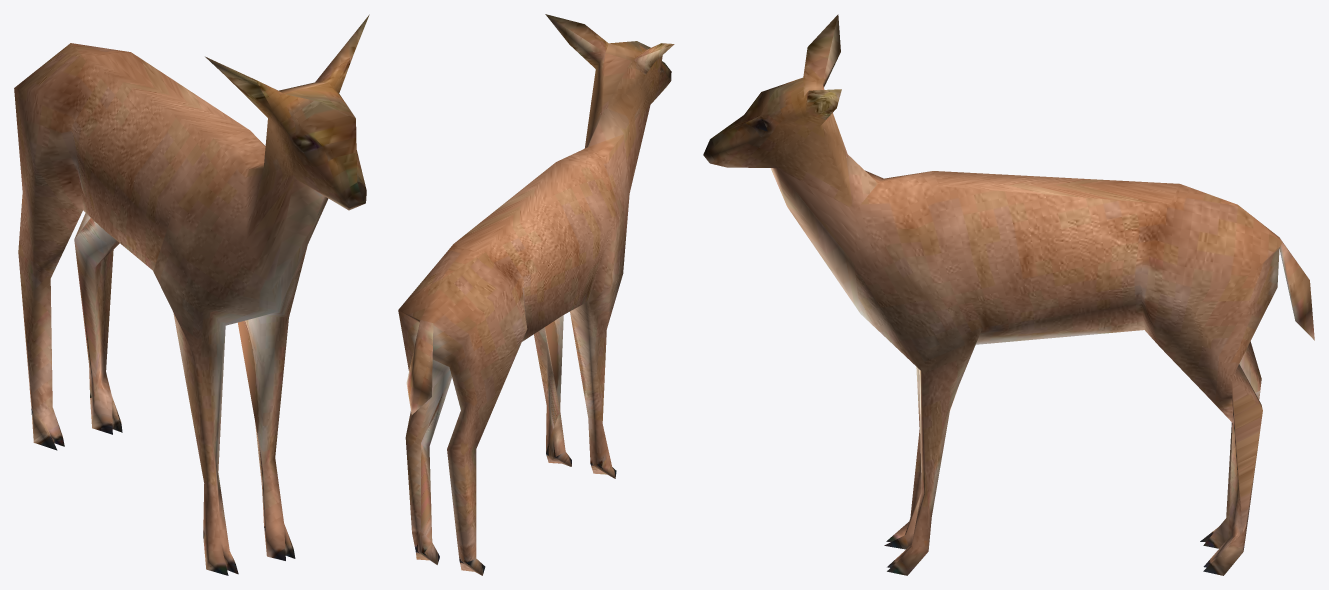
The model's file is deer.gltf.
The picture shows the model from 3 angles, left to right: view 1: azimuth 30°, elevation 25°; view 2: azimuth 150°, elevation 25°; view 3: azimuth 270°, elevation 25°; orthographic projection. The views are drawn at different scales.
Parts seen in each view (by area): view 1: 12961_White-Tailed_Deer_v1_l2.002; view 2: 12961_White-Tailed_Deer_v1_l2.002; view 3: 12961_White-Tailed_Deer_v1_l2.002.
Boxes of the visible parts, left/top/right/bottom form: 12961_White-Tailed_Deer_v1_l2.002: left=14, top=14, right=369, bottom=575; 12961_White-Tailed_Deer_v1_l2.002: left=398, top=14, right=674, bottom=575; 12961_White-Tailed_Deer_v1_l2.002: left=703, top=14, right=1314, bottom=575.
Bounding box in the file's own units: 11.18 × 35.12 × 38.54.
Materials: 1 (1 with a texture image).
